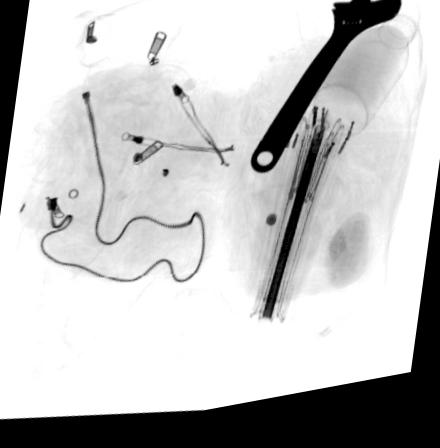Wrench: (249, 0, 402, 183)
